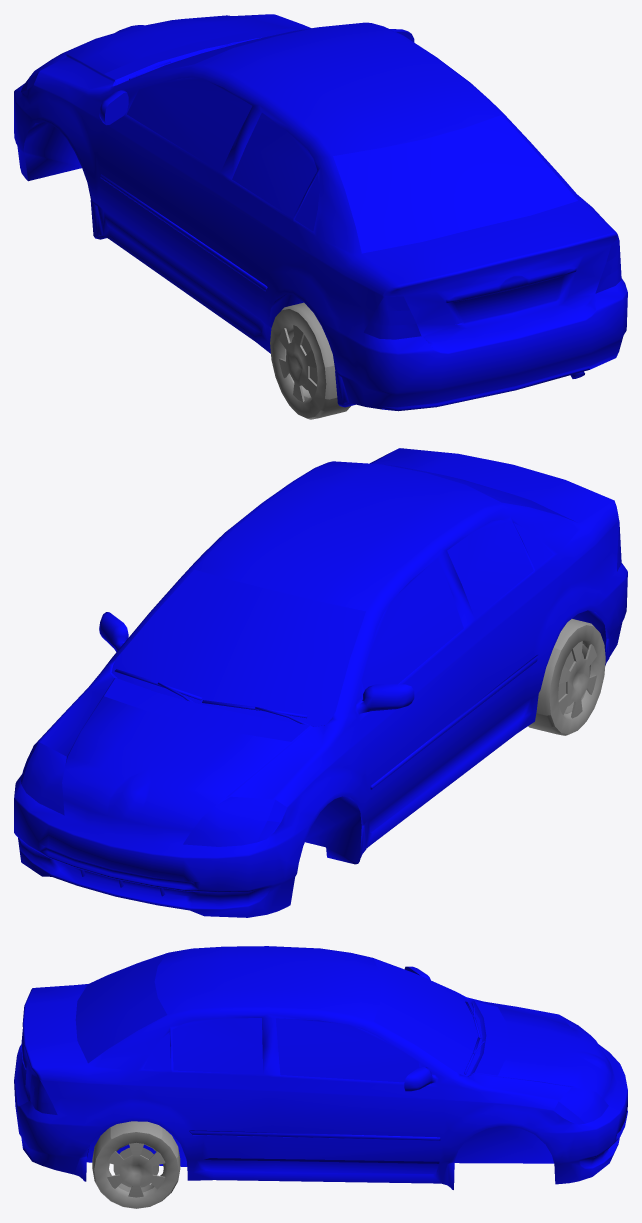
The model's file is Car00.FBX.
3 renders of one model, top to bottom at view 1: azimuth 30°, elevation 25°; view 2: azimuth 150°, elevation 25°; view 3: azimuth 270°, elevation 25°, orthographic. The views are drawn at different scales.
Parts seen in each view (by area): view 1: Car00_body, Car00_wheel_l, Car00_mirrors; view 2: Car00_body, Car00_wheel_l; view 3: Car00_body, Car00_wheel_r.
Part boxes in pixels (left/top/right/bottom): Car00_body: left=14, top=14, right=627, bottom=411; Car00_wheel_l: left=270, top=302, right=350, bottom=419; Car00_mirrors: left=105, top=31, right=414, bottom=125; Car00_body: left=14, top=448, right=627, bottom=917; Car00_wheel_l: left=528, top=619, right=605, bottom=735; Car00_body: left=14, top=946, right=627, bottom=1189; Car00_wheel_r: left=92, top=1121, right=180, bottom=1208.
Size of the model in its own units: 182 by 138 by 416.
